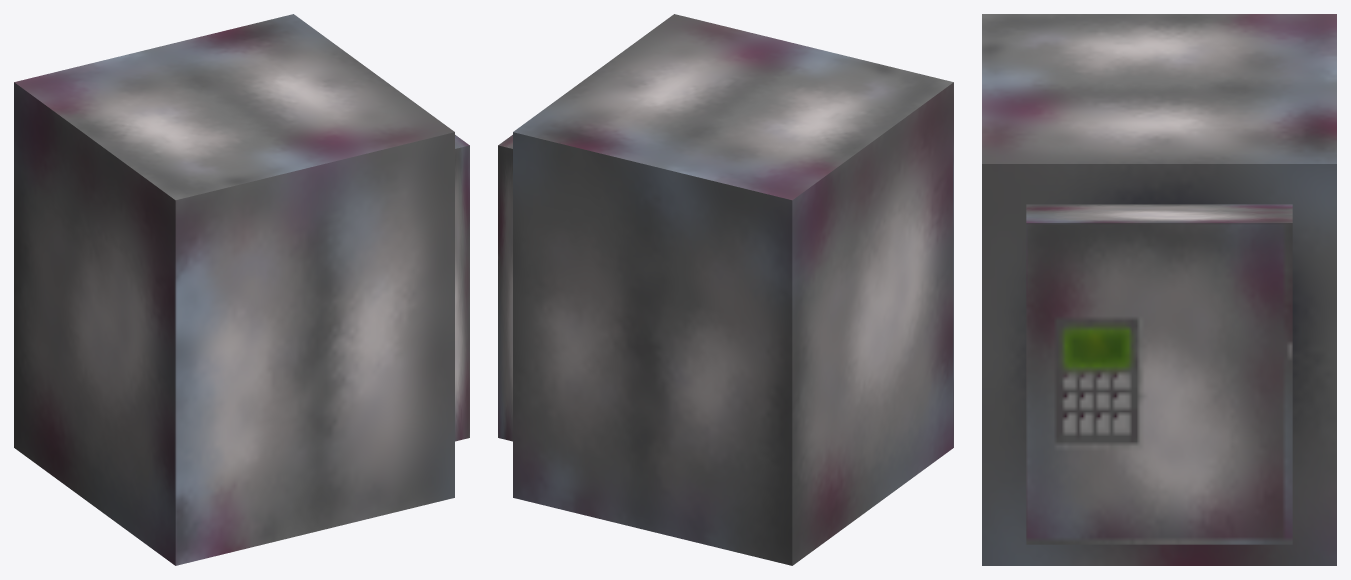
The model's file is safe.glb.
3 renders of one model, left to right at view 1: azimuth 30°, elevation 25°; view 2: azimuth 150°, elevation 25°; view 3: azimuth 270°, elevation 25°, orthographic. The views are drawn at different scales.
Visible parts, largest first — view 1: safe, safe_door; view 2: safe, safe_door; view 3: safe, safe_door.
Boxes of the visible parts, bbox=[...] form: safe: bbox=[14, 14, 454, 565]; safe_door: bbox=[455, 135, 469, 441]; safe: bbox=[513, 14, 953, 565]; safe_door: bbox=[498, 135, 512, 441]; safe: bbox=[982, 14, 1336, 565]; safe_door: bbox=[1026, 204, 1292, 544].
Size of the model in its own units: 0.9 by 1 by 0.8.
2 materials, 2 textured.
